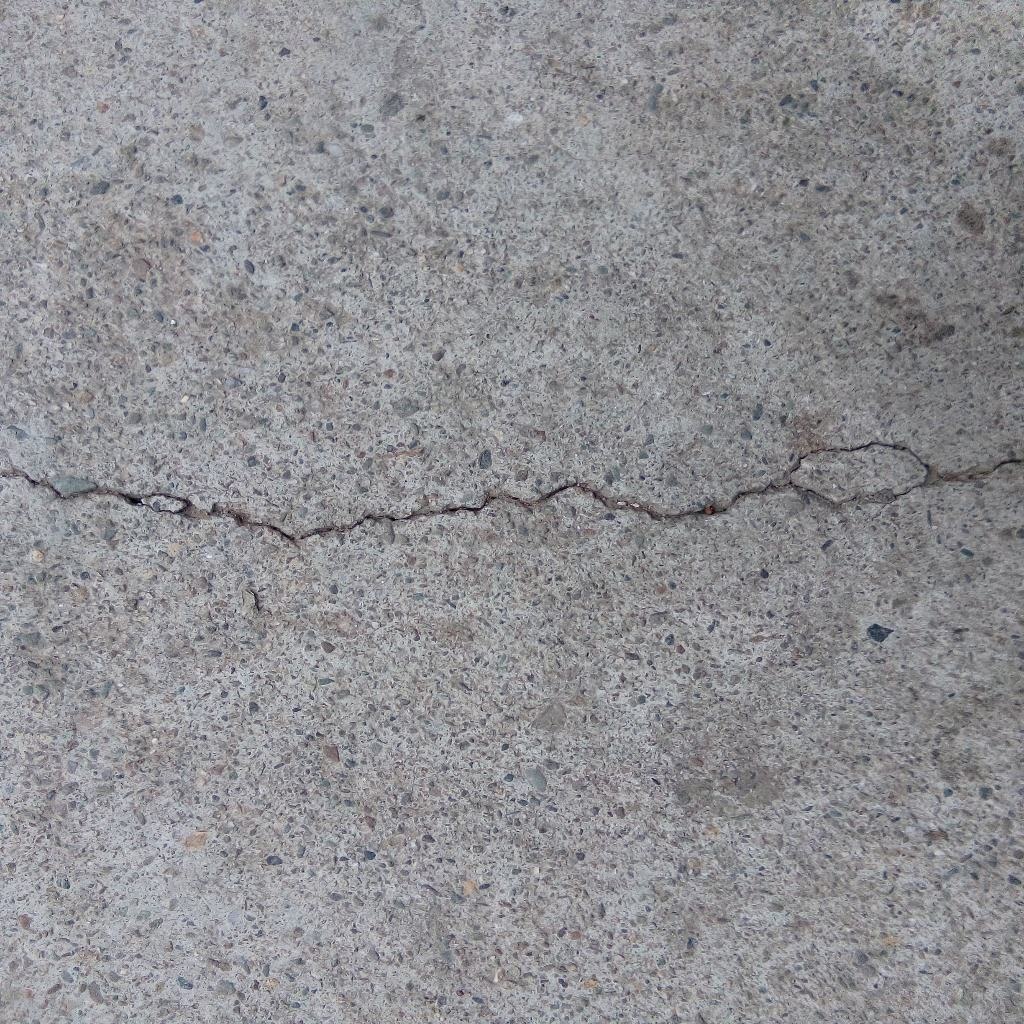Crack: (1, 439, 1024, 546)
